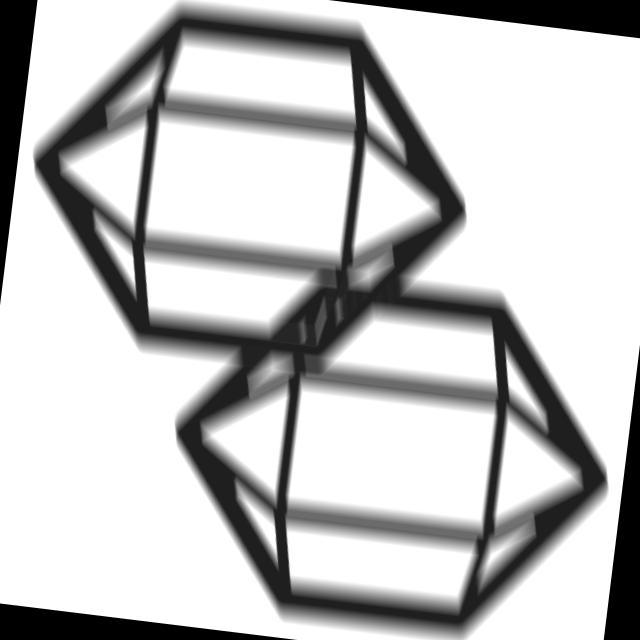crystal: (1, 1, 513, 418), (137, 218, 640, 640)
